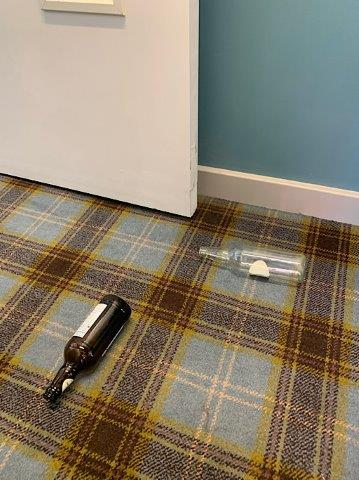botolkaca: (43, 296, 131, 399), (200, 244, 306, 285)
